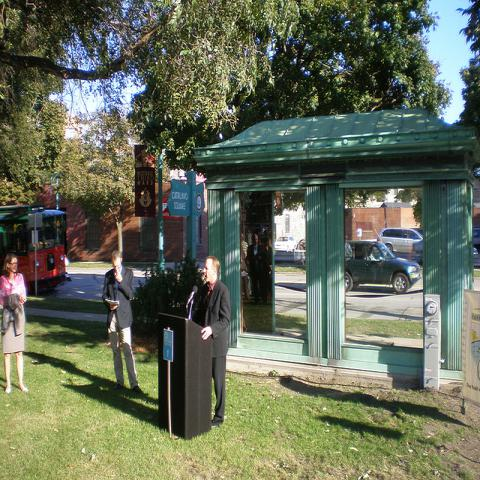bus: (0, 204, 68, 294)
car: (346, 227, 422, 295), (382, 228, 423, 256), (274, 237, 297, 251)
